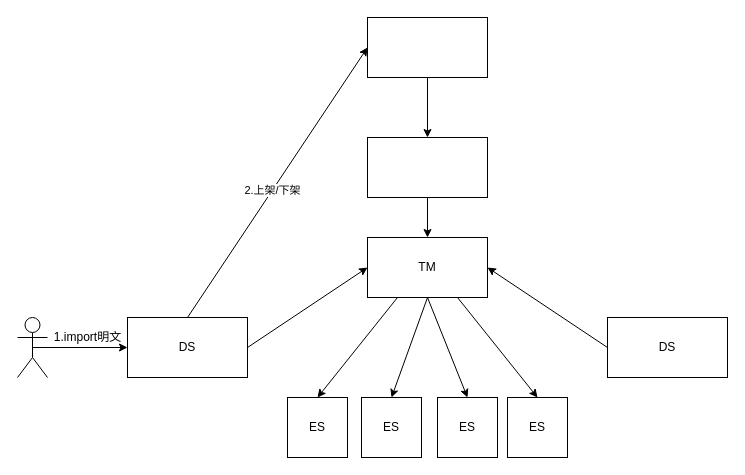
Image size: 745x475. Some labels were removed from this diagram. Here are the shapes that lost their labels. From the top down, the centre of each, then its label:
the point at 427,47: Datamarket
the point at 427,167: console
the point at 32,347: Actor
